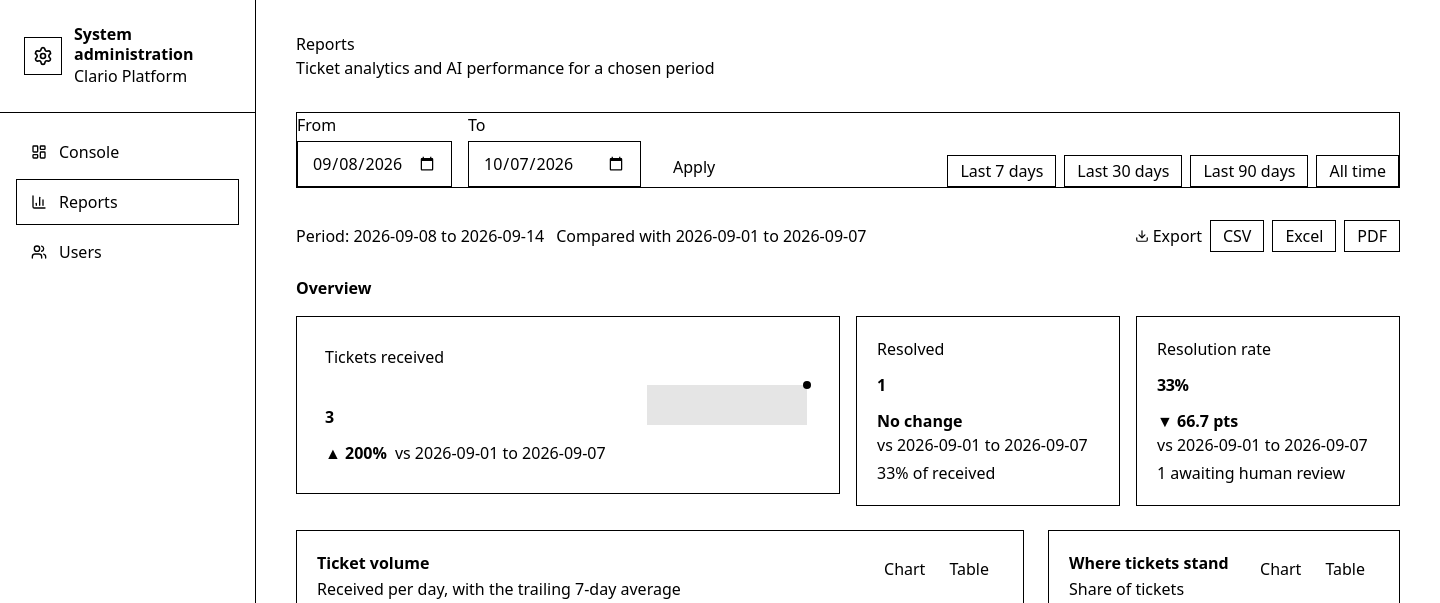
Test: Admin reports page - export (FR-053) › survives a non-JSON error body
Check: the text named "Tickets received: 3" is shown, box [325,405,334,429]
Click the button "CSV" at x=1237, y=236, box [1210,220,1264,252]
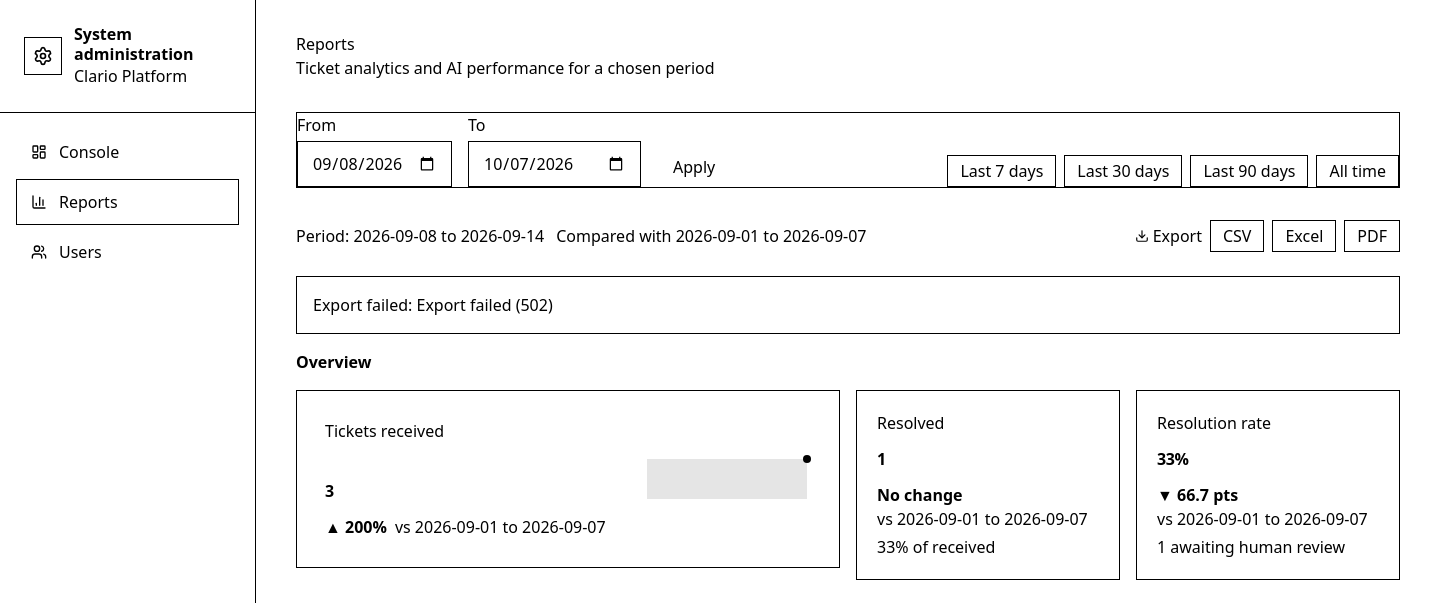
Check: the text "Export failed: Export failed (502)" is shown, box [313,294,553,316]
